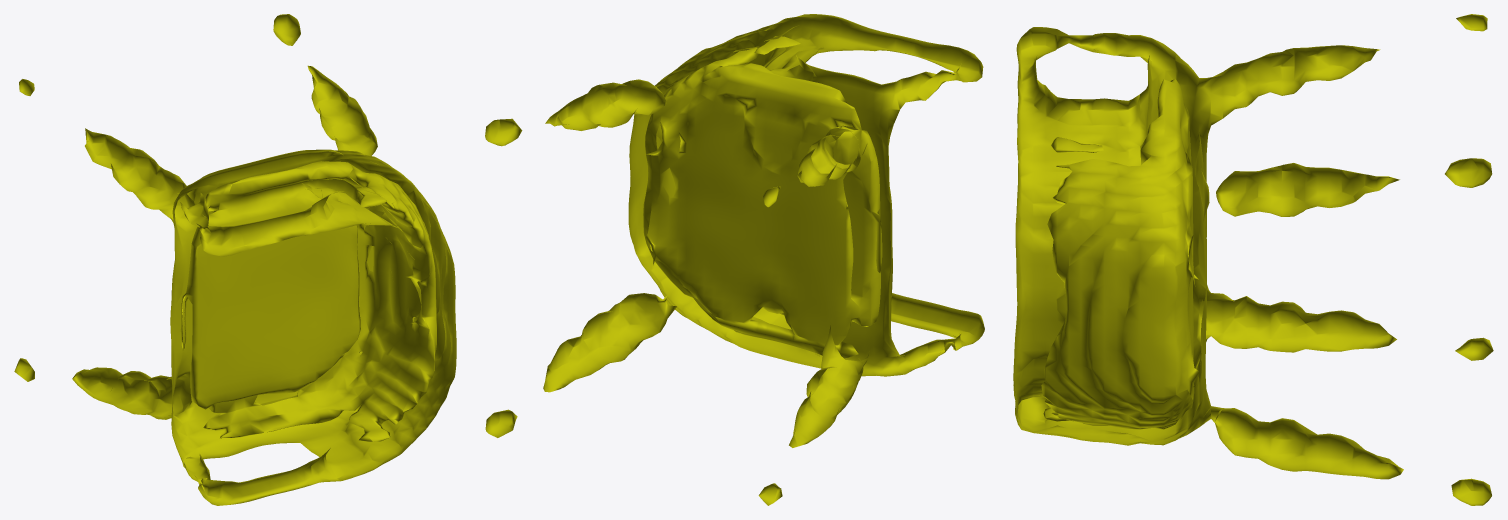
The picture shows the model from 3 angles, left to right: view 1: azimuth 30°, elevation 25°; view 2: azimuth 150°, elevation 25°; view 3: azimuth 270°, elevation 25°; orthographic projection. The views are drawn at different scales.
Visible parts, largest first — view 1: world; view 2: world; view 3: world.
Boxes of the visible parts, <box> form: world: <box>14,14,456,505</box>; world: <box>485,14,984,505</box>; world: <box>1013,14,1493,505</box>.
Bounding box in the file's own units: 31.72 × 32.42 × 40.58.
